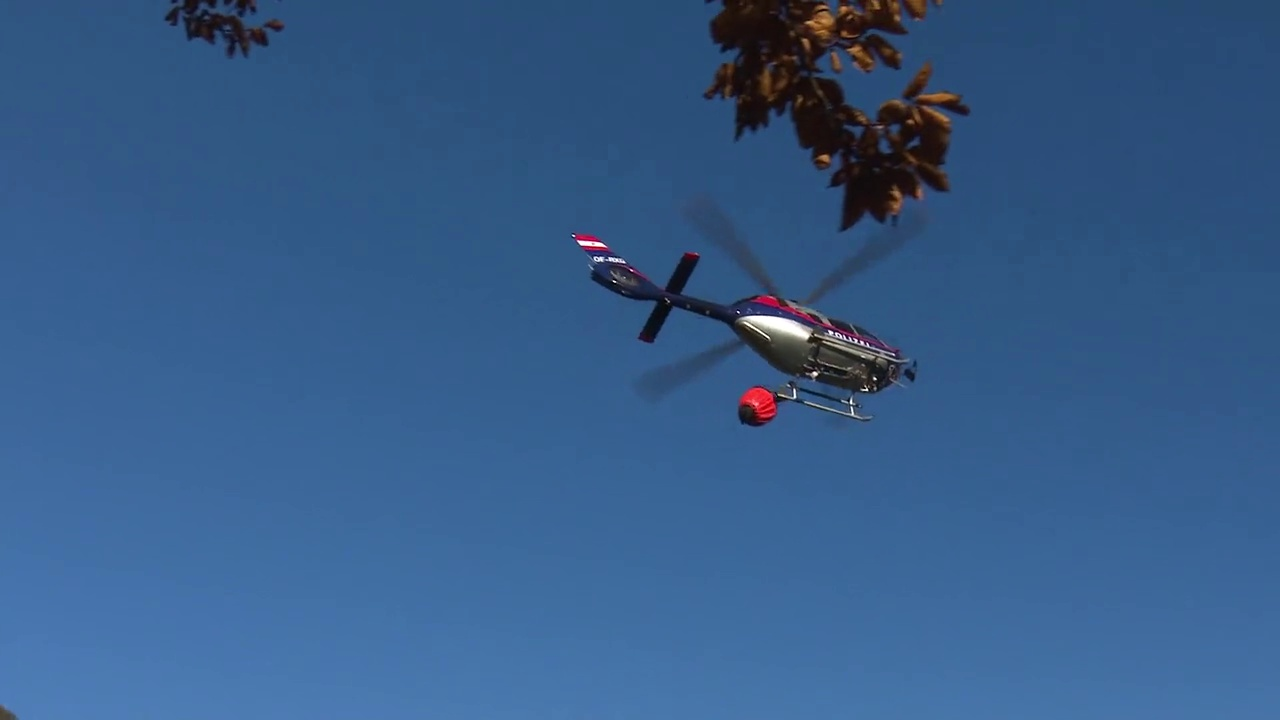heli: (572, 191, 923, 420)
